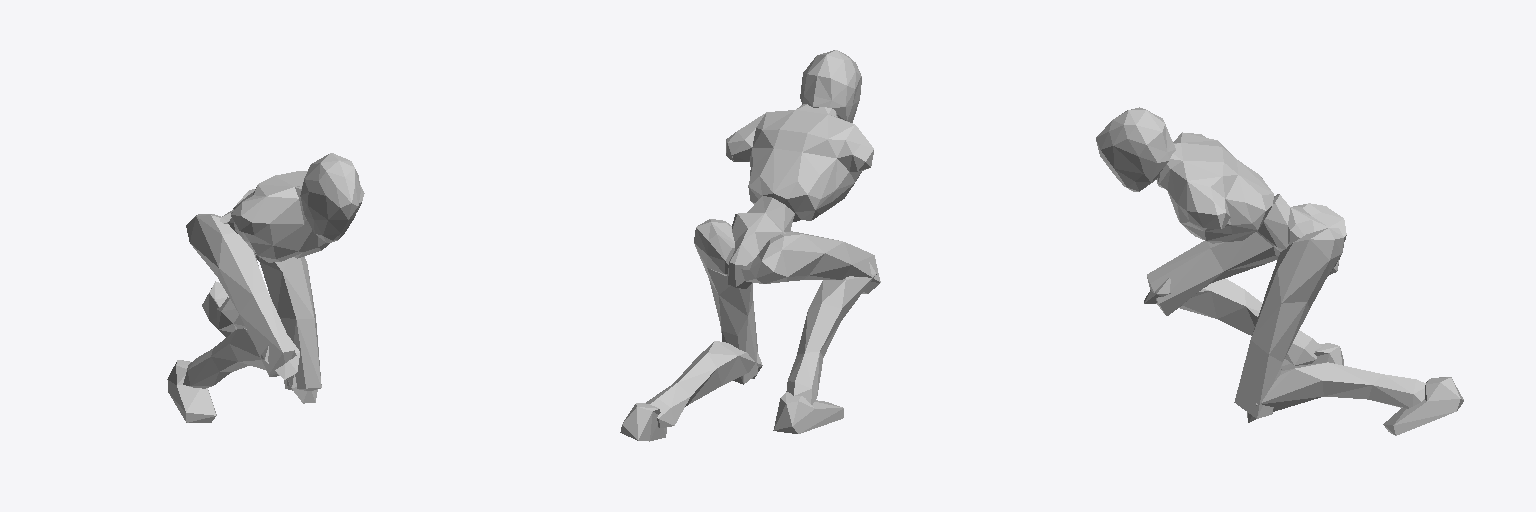
The model's file is filth18.obj.
3 renders of one model, left to right at view 1: azimuth 30°, elevation 25°; view 2: azimuth 150°, elevation 25°; view 3: azimuth 270°, elevation 25°, orthographic.
Visible parts, largest first — view 1: Melee_Husk; view 2: Melee_Husk; view 3: Melee_Husk.
Boxes of the visible parts, <box> form: Melee_Husk: <box>167,153,364,422</box>; Melee_Husk: <box>620,50,880,441</box>; Melee_Husk: <box>1096,107,1463,435</box>.
Bounding box in the file's own units: 22.18 × 43.55 × 48.43.